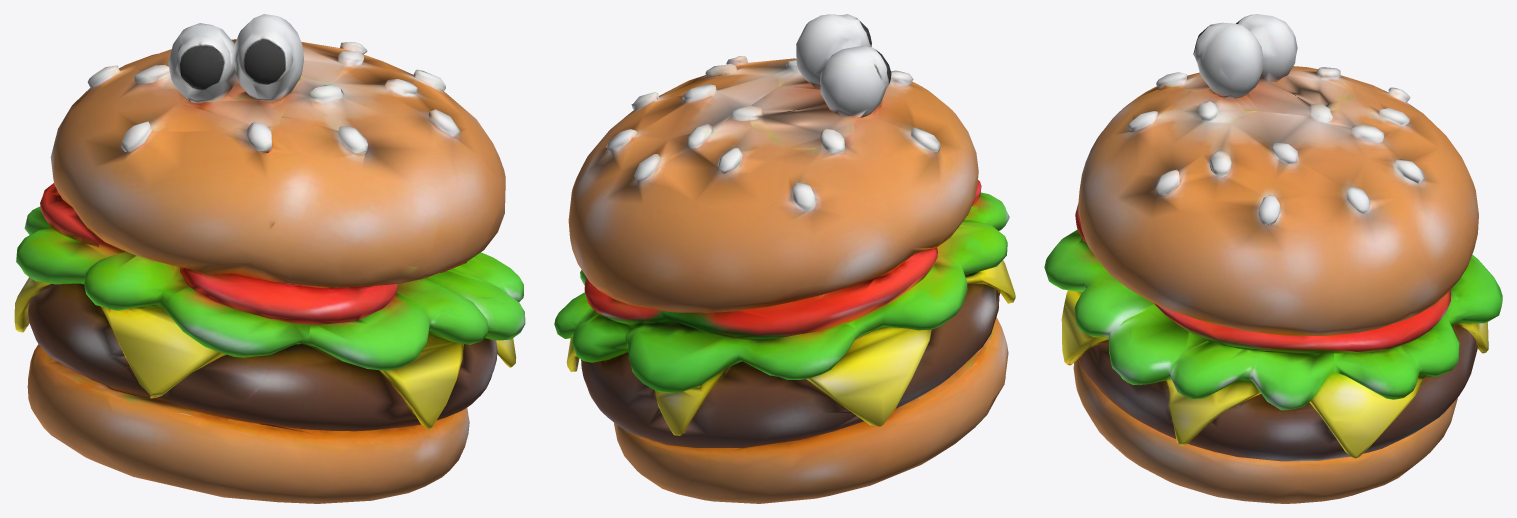
File: basket-burger.glb
3 views of the same model, side by side, from view 1: azimuth 30°, elevation 25°; view 2: azimuth 150°, elevation 25°; view 3: azimuth 270°, elevation 25° (orthographic). The views are drawn at different scales.
Parts seen in each view (by area): view 1: node_0; view 2: node_0; view 3: node_0.
Part boxes in pixels (x1,y1,x2,y2): node_0: (14,14,525,503); node_0: (554,14,1015,503); node_0: (1044,14,1502,503).
Size of the model in its own units: 0.9737 by 1.02 by 1.03.
Materials: 1 (1 with a texture image).
